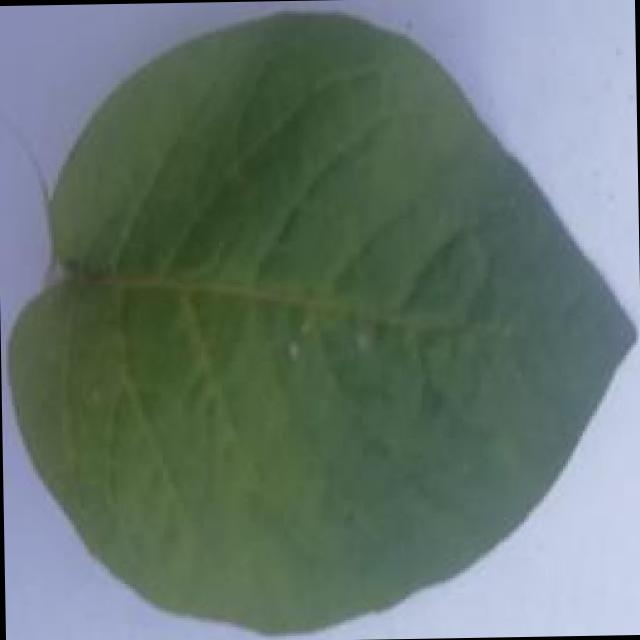Potato_Healthy: (4, 3, 631, 636)
